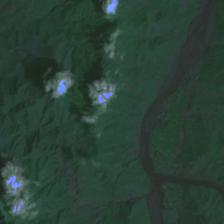landslides: (116, 25, 136, 39), (112, 9, 128, 26), (42, 93, 54, 114), (113, 51, 128, 66), (127, 149, 140, 159), (112, 0, 129, 7), (108, 98, 121, 106), (116, 48, 129, 56)
